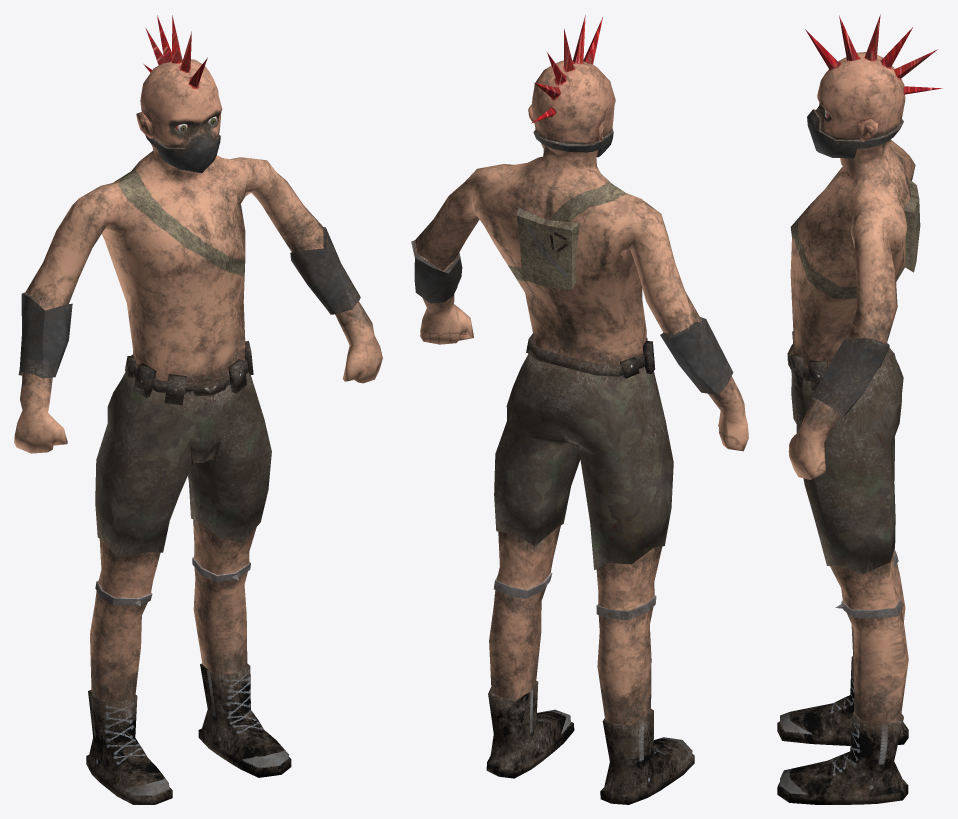
File: Anim_idle_npc2.0030.obj
3 renders of one model, left to right at view 1: azimuth 30°, elevation 25°; view 2: azimuth 150°, elevation 25°; view 3: azimuth 270°, elevation 25°, orthographic.
Parts seen in each view (by area): view 1: polySurface1; view 2: polySurface1; view 3: polySurface1.
Part boxes in pixels (<box>): polySurface1: <box>14,15,382,804</box>; polySurface1: <box>411,15,748,804</box>; polySurface1: <box>777,14,942,804</box>.
Size of the model in its own units: 4.96 by 10.18 by 2.04.
